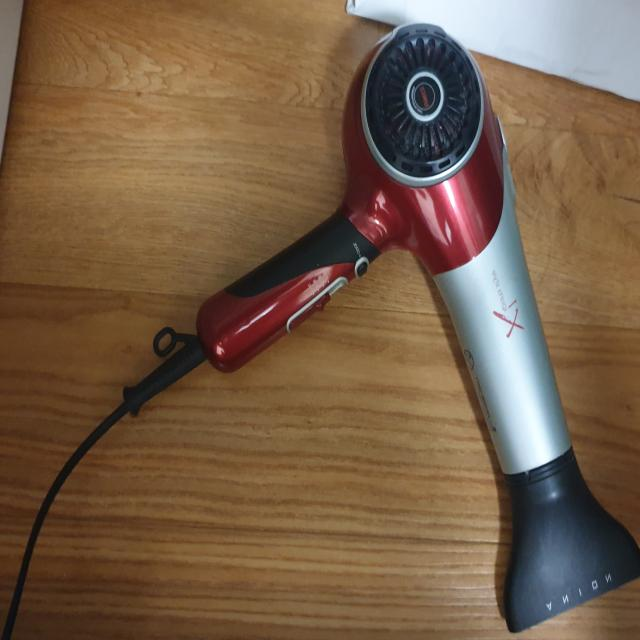dryer: (121, 19, 640, 636)
